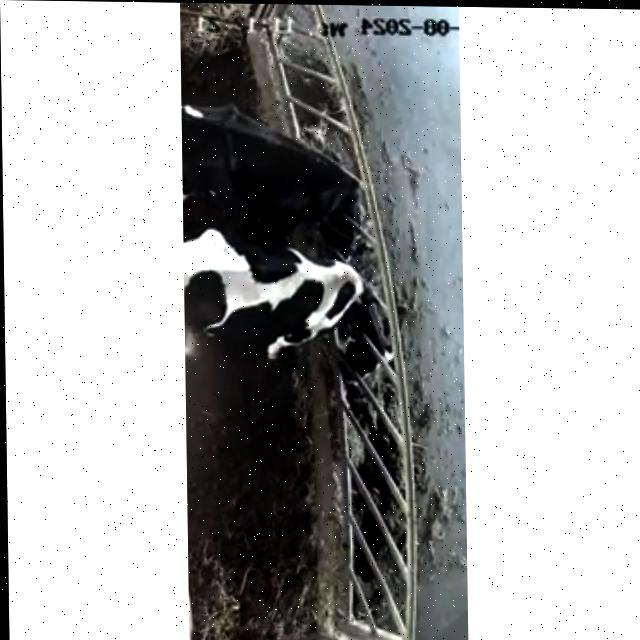eat: (242, 256, 436, 392), (251, 134, 426, 242)
